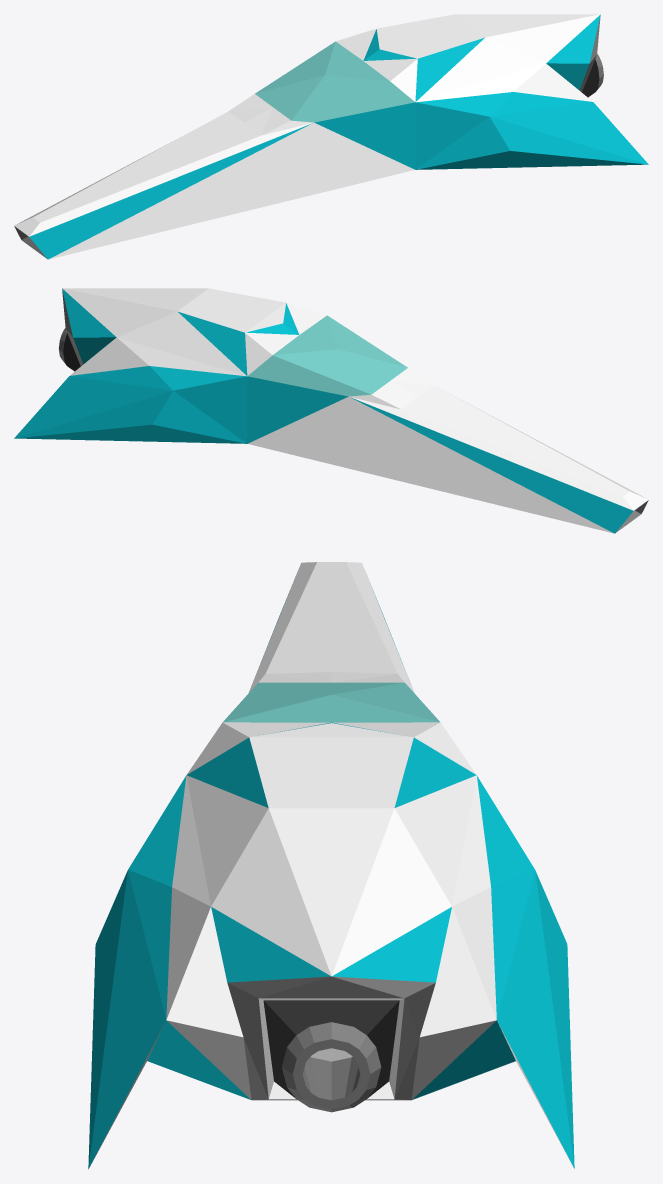
File: shipmodel.fbx
3 views of the same model, one above another, from view 1: azimuth 30°, elevation 25°; view 2: azimuth 150°, elevation 25°; view 3: azimuth 270°, elevation 25° (orthographic). The views are drawn at different scales.
Visible parts, largest first — view 1: Ship; view 2: Ship; view 3: Ship.
Part boxes in pixels (left/top/right/bottom): Ship: left=14, top=14, right=648, bottom=259; Ship: left=14, top=288, right=648, bottom=533; Ship: left=88, top=562, right=574, bottom=1169.
Bounding box in the file's own units: 838 × 170 × 305.
